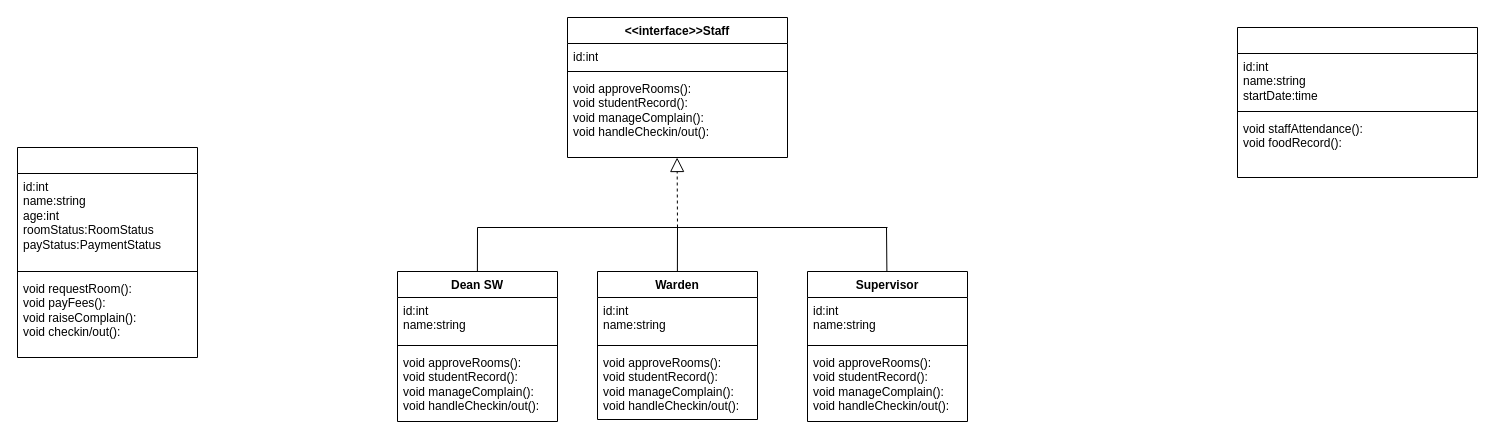
Some shapes in this 1495 by 442 pixel diagram are drawn without their labels. The box of each missing label's shape, as (x1, y1, x2, y2) in pixels:
<<interface>>managementStaff: (1236, 26, 1478, 178)
STUDENT: (16, 146, 198, 358)
